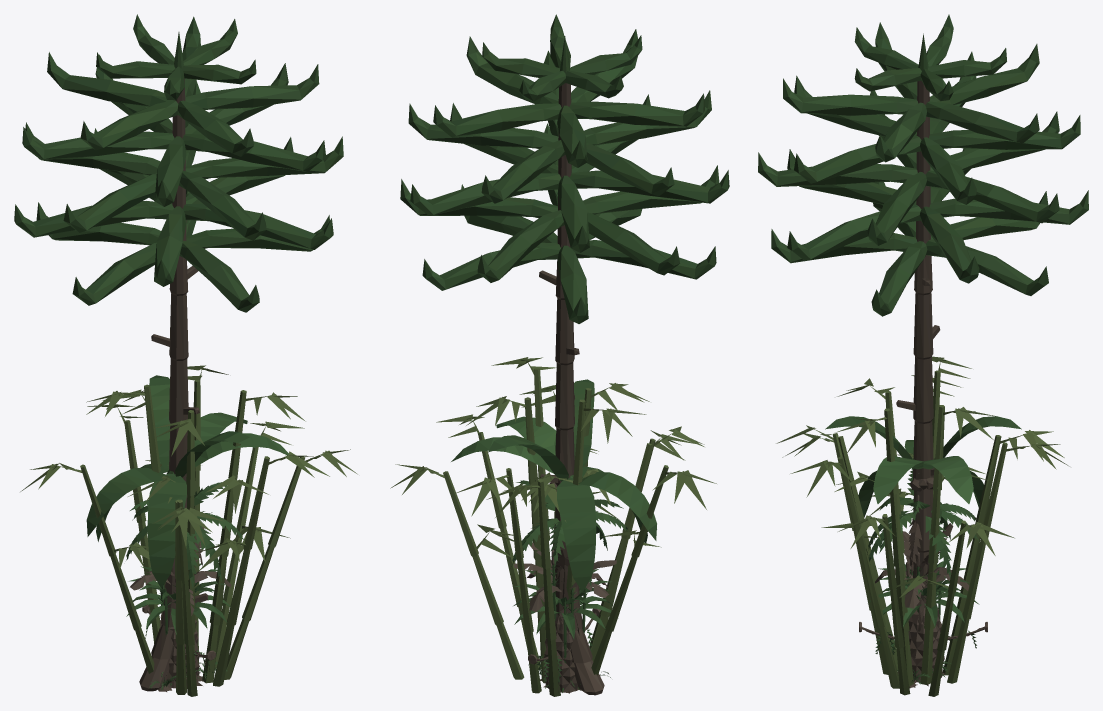
File: foliage.glb
The picture shows the model from 3 angles, left to right: view 1: azimuth 30°, elevation 25°; view 2: azimuth 150°, elevation 25°; view 3: azimuth 270°, elevation 25°; orthographic projection.
Visible parts, largest first — view 1: tree~araucaria@0, bamboo@0, tree~palm@0, tree~cycad@0, tree~treefern@0, tree~banana@0; view 2: tree~araucaria@0, bamboo@0, tree~palm@0, tree~cycad@0, tree~treefern@0, tree~banana@0; view 3: tree~araucaria@0, bamboo@0, tree~palm@0, tree~treefern@0, tree~cycad@0, tree~banana@0.
Part boxes in pixels (x1=…): tree~araucaria@0: x1=14, y1=14, x2=343, y2=603; bamboo@0: x1=20, y1=365, x2=357, y2=696; tree~palm@0: x1=86, y1=375, x2=288, y2=691; tree~cycad@0: x1=126, y1=563, x2=230, y2=688; tree~treefern@0: x1=126, y1=482, x2=244, y2=688; tree~banana@0: x1=130, y1=527, x2=231, y2=628; tree~araucaria@0: x1=400, y1=14, x2=729, y2=615; bamboo@0: x1=390, y1=357, x2=716, y2=696; tree~palm@0: x1=451, y1=379, x2=656, y2=695; tree~cycad@0: x1=513, y1=569, x2=618, y2=692; tree~treefern@0: x1=511, y1=480, x2=628, y2=691; tree~banana@0: x1=513, y1=542, x2=616, y2=635; tree~araucaria@0: x1=758, y1=14, x2=1088, y2=607; bamboo@0: x1=776, y1=356, x2=1069, y2=696; tree~palm@0: x1=825, y1=416, x2=1021, y2=517; tree~treefern@0: x1=868, y1=468, x2=979, y2=686; tree~cycad@0: x1=868, y1=560, x2=979, y2=682; tree~banana@0: x1=875, y1=523, x2=969, y2=631.
Bounding box in the file's own units: 10.74 × 22 × 10.28.
